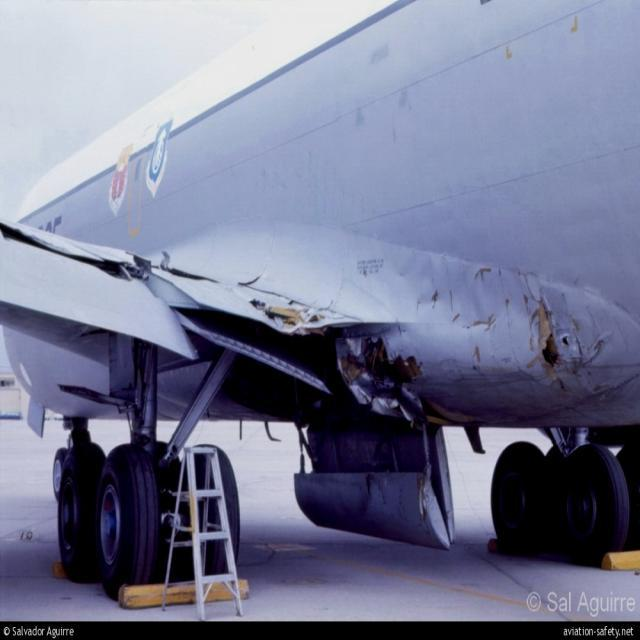dent: (441, 265, 488, 329), (494, 281, 529, 320), (403, 257, 418, 280), (422, 260, 436, 283)
